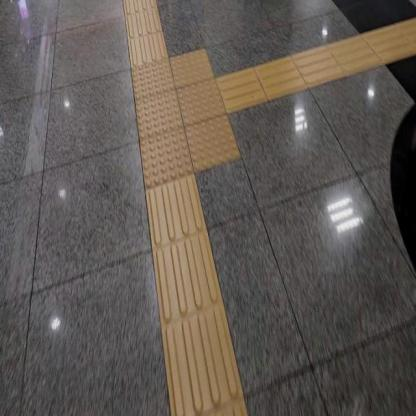podotacti: (97, 32, 260, 212), (146, 192, 247, 415), (232, 16, 416, 118), (123, 0, 169, 58)
